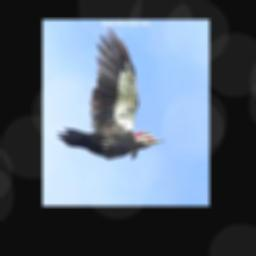Woodpecker: (56, 27, 165, 158)
